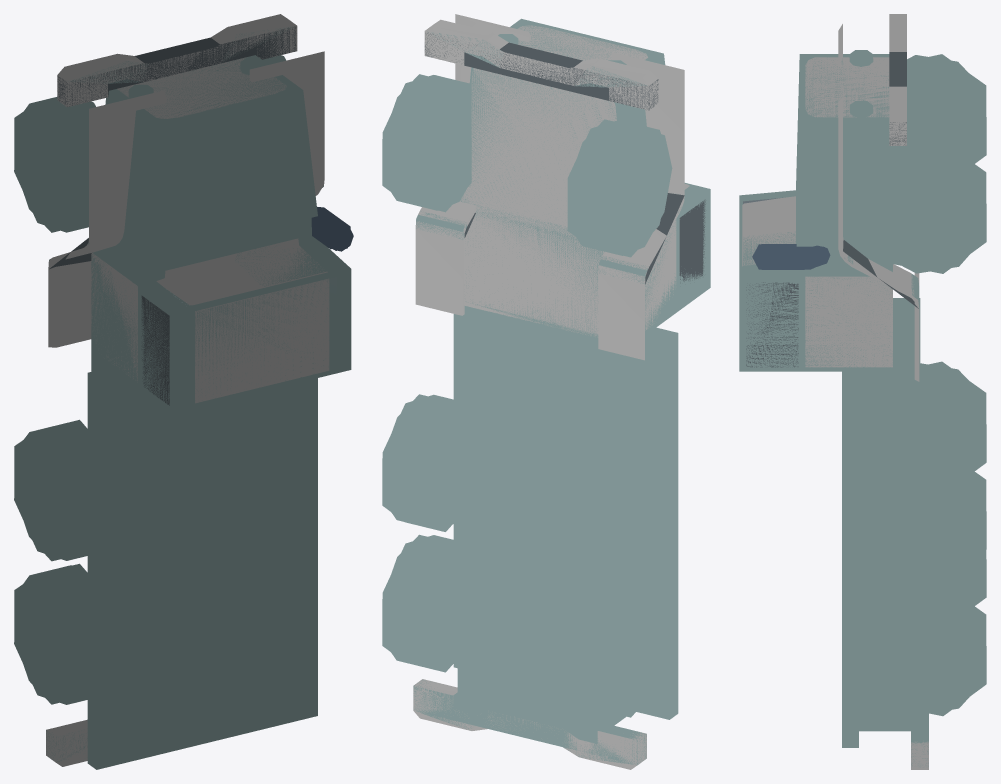
Rendered from ural375.glb.
3 renders of one model, left to right at view 1: azimuth 30°, elevation 25°; view 2: azimuth 150°, elevation 25°; view 3: azimuth 270°, elevation 25°, orthographic. The views are drawn at different scales.
Parts seen in each view (by area): view 1: db_ural_newLOD_LOD child0_bed_pl16_Geometry_0.001, db_ural_newLOD_LOD child0_cab3_p15207_Geometry_0.001, db_ural_newLOD_LOD child0_wheel_p14020_Geometry_0.001, db_ural_newLOD_LOD child0_cab_p14008_Geometry_1.001, db_ural_newLOD_LOD child0_guard_pl84_Geometry_0.001, db_ural_newLOD_LOD child0_wheels2_p14540_Geometry_0.001, db_ural_newLOD_LOD child0_bumper_p13804_Geometry_0.001, db_ural_newLOD_LOD child0_fbumpr3_p15195_Geometry_0.001, db_ural_newLOD_LOD child0_cab2_p14799_Geometry_1.001, db_ural_newLOD_LOD child0_cab_p14008_Geometry_0.001, db_ural_newLOD_LOD child0_cab3_p15080_Geometry_0.001, db_ural_newLOD_LOD child0_bbumper_p13980_Geometry_0.001 (+3 smaller); view 2: db_ural_newLOD_LOD child0_bed_pl16_Geometry_0.001, db_ural_newLOD_LOD child0_wheels2_p14540_Geometry_0.001, db_ural_newLOD_LOD child0_wheel_p14020_Geometry_0.001, db_ural_newLOD_LOD child0_cab_p14008_Geometry_1.001, db_ural_newLOD_LOD child0_guard_pl84_Geometry_0.001, db_ural_newLOD_LOD child0_cab3_p15207_Geometry_0.001, db_ural_newLOD_LOD child0_bumper_p13804_Geometry_0.001, db_ural_newLOD_LOD child0_bbumpr3_p15201_Geometry_0.001, db_ural_newLOD_LOD child0_fbumpr3_p15195_Geometry_0.001, db_ural_newLOD_LOD child0_bbumper_p13980_Geometry_0.001, db_ural_newLOD_LOD child0_cab3_p15080_Geometry_0.001, db_ural_newLOD_LOD child0_guards2_p15152_Geometry_0.001 (+4 smaller); view 3: db_ural_newLOD_LOD child0_wheel_p14020_Geometry_0.001, db_ural_newLOD_LOD child0_wheels2_p14540_Geometry_0.001, db_ural_newLOD_LOD child0_cab3_p15207_Geometry_0.001, db_ural_newLOD_LOD child0_bed_pl16_Geometry_0.001, db_ural_newLOD_LOD child0_cab_p14008_Geometry_1.001, db_ural_newLOD_LOD child0_guard_pl84_Geometry_0.001, db_ural_newLOD_LOD child0_cab_p14008_Geometry_0.001, db_ural_newLOD_LOD child0_cab3_p15080_Geometry_0.001, db_ural_newLOD_LOD child0_bumper_p13804_Geometry_0.001, db_ural_newLOD_LOD child0_exhaust3_p15171_Geometry_0.001, db_ural_newLOD_LOD child0_fbumpr3_p15195_Geometry_0.001, db_ural_newLOD_LOD child0_exhaust_p13770_Geometry_0.001 (+5 smaller).
Boxes of the visible parts, box(x1,y1,x2,y2) form: db_ural_newLOD_LOD child0_bed_pl16_Geometry_0.001: box(87, 353, 317, 769); db_ural_newLOD_LOD child0_cab3_p15207_Geometry_0.001: box(91, 55, 351, 413); db_ural_newLOD_LOD child0_wheel_p14020_Geometry_0.001: box(14, 55, 286, 704); db_ural_newLOD_LOD child0_cab_p14008_Geometry_1.001: box(91, 57, 329, 403); db_ural_newLOD_LOD child0_guard_pl84_Geometry_0.001: box(48, 51, 324, 347); db_ural_newLOD_LOD child0_wheels2_p14540_Geometry_0.001: box(14, 97, 88, 704); db_ural_newLOD_LOD child0_bumper_p13804_Geometry_0.001: box(57, 14, 297, 107); db_ural_newLOD_LOD child0_fbumpr3_p15195_Geometry_0.001: box(57, 26, 296, 106); db_ural_newLOD_LOD child0_cab2_p14799_Geometry_1.001: box(161, 87, 337, 405); db_ural_newLOD_LOD child0_cab_p14008_Geometry_0.001: box(156, 245, 323, 304); db_ural_newLOD_LOD child0_cab3_p15080_Geometry_0.001: box(141, 295, 182, 405); db_ural_newLOD_LOD child0_bbumper_p13980_Geometry_0.001: box(46, 720, 87, 766); db_ural_newLOD_LOD child0_bed_pl16_Geometry_0.001: box(453, 306, 678, 727); db_ural_newLOD_LOD child0_wheels2_p14540_Geometry_0.001: box(382, 75, 672, 717); db_ural_newLOD_LOD child0_wheel_p14020_Geometry_0.001: box(382, 74, 672, 715); db_ural_newLOD_LOD child0_cab_p14008_Geometry_1.001: box(460, 25, 676, 337); db_ural_newLOD_LOD child0_guard_pl84_Geometry_0.001: box(415, 14, 684, 360); db_ural_newLOD_LOD child0_cab3_p15207_Geometry_0.001: box(460, 18, 710, 338); db_ural_newLOD_LOD child0_bumper_p13804_Geometry_0.001: box(424, 19, 658, 110); db_ural_newLOD_LOD child0_bbumpr3_p15201_Geometry_0.001: box(413, 679, 646, 765); db_ural_newLOD_LOD child0_fbumpr3_p15195_Geometry_0.001: box(424, 32, 658, 110); db_ural_newLOD_LOD child0_bbumper_p13980_Geometry_0.001: box(413, 679, 646, 769); db_ural_newLOD_LOD child0_cab3_p15080_Geometry_0.001: box(679, 199, 705, 283); db_ural_newLOD_LOD child0_guards2_p15152_Geometry_0.001: box(416, 193, 684, 283); db_ural_newLOD_LOD child0_wheel_p14020_Geometry_0.001: box(863, 55, 986, 715); db_ural_newLOD_LOD child0_wheels2_p14540_Geometry_0.001: box(864, 54, 986, 716); db_ural_newLOD_LOD child0_cab3_p15207_Geometry_0.001: box(739, 54, 892, 371); db_ural_newLOD_LOD child0_bed_pl16_Geometry_0.001: box(842, 298, 920, 747); db_ural_newLOD_LOD child0_cab_p14008_Geometry_1.001: box(742, 57, 892, 367); db_ural_newLOD_LOD child0_guard_pl84_Geometry_0.001: box(838, 24, 919, 381); db_ural_newLOD_LOD child0_cab_p14008_Geometry_0.001: box(743, 196, 795, 265); db_ural_newLOD_LOD child0_cab3_p15080_Geometry_0.001: box(743, 197, 798, 367); db_ural_newLOD_LOD child0_bumper_p13804_Geometry_0.001: box(889, 14, 906, 145); db_ural_newLOD_LOD child0_exhaust3_p15171_Geometry_0.001: box(760, 244, 823, 269); db_ural_newLOD_LOD child0_fbumpr3_p15195_Geometry_0.001: box(889, 52, 906, 145); db_ural_newLOD_LOD child0_exhaust_p13770_Geometry_0.001: box(752, 245, 830, 268).
Size of the model in its own units: 2.7 by 7.69 by 2.62.
